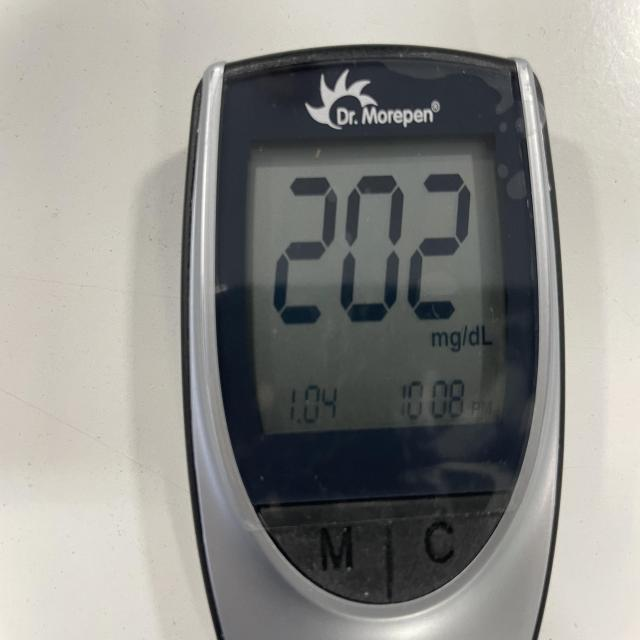gluco: (180, 45, 566, 640)
